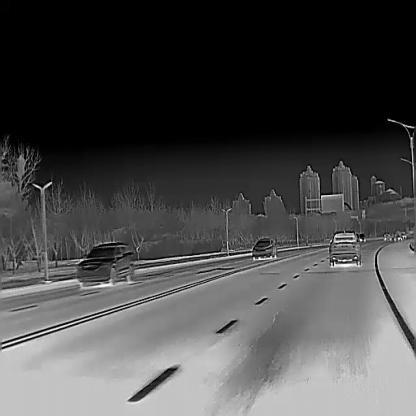car: (77, 241, 133, 285), (328, 230, 362, 266), (252, 238, 276, 259), (358, 233, 366, 242), (383, 233, 391, 241)
